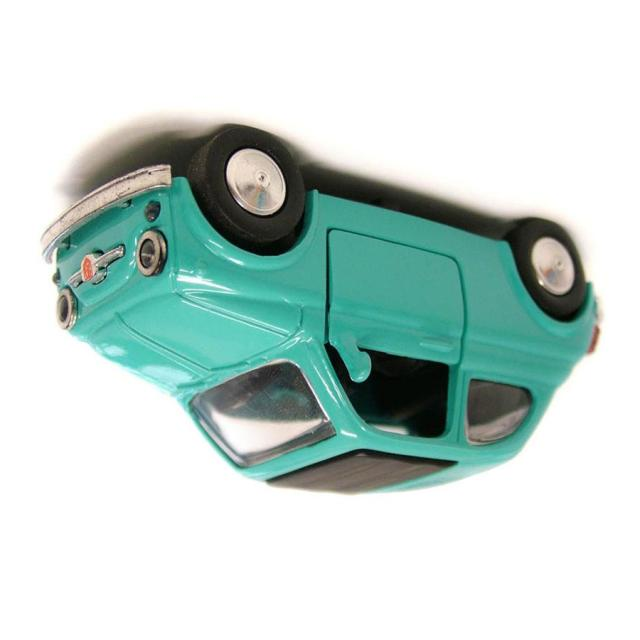Car: (39, 124, 602, 496)
